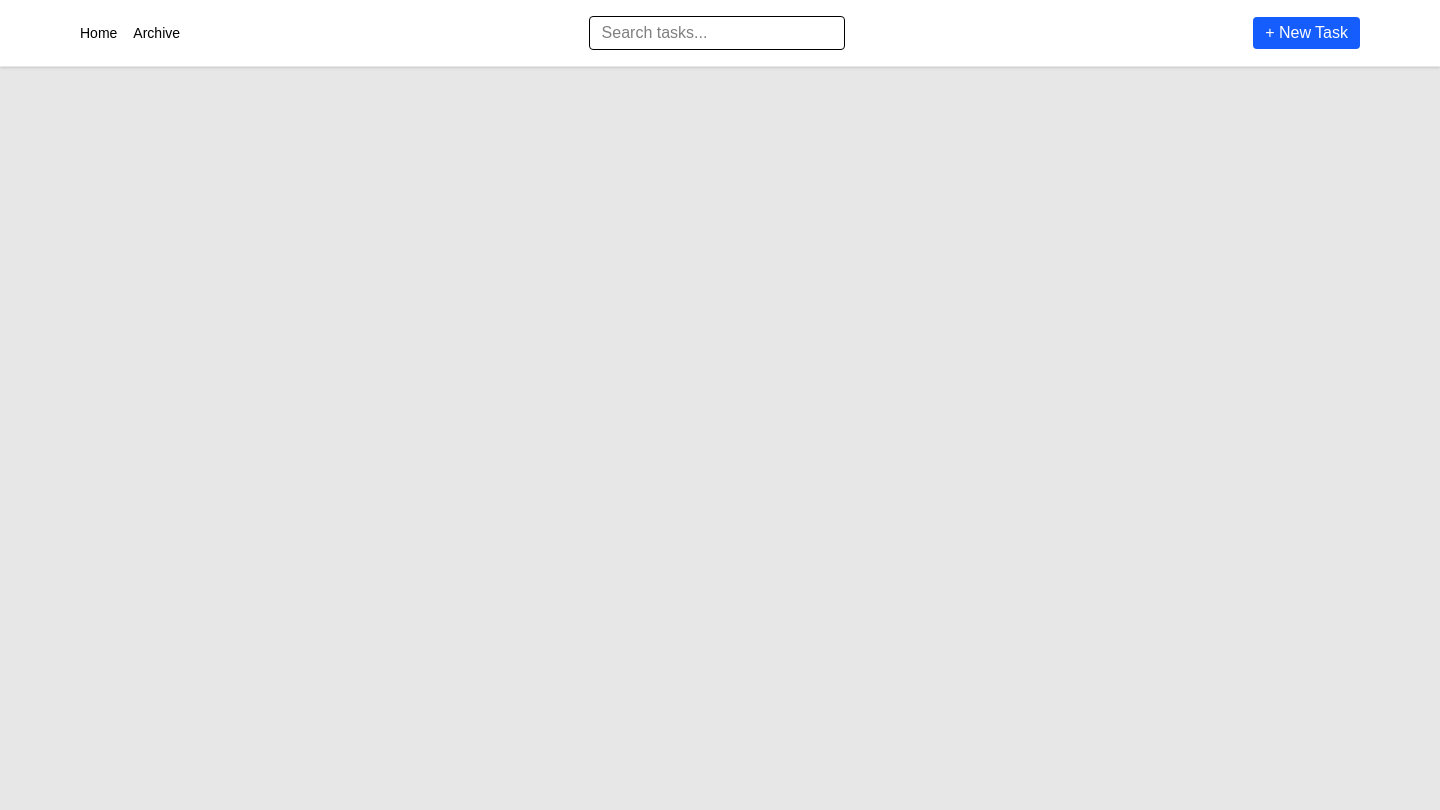
it: NavBar › opens modal when clicking "+ New Task" button
Click the button "+ New Task".
click(1307, 33)  # box [1253, 17, 1360, 49]
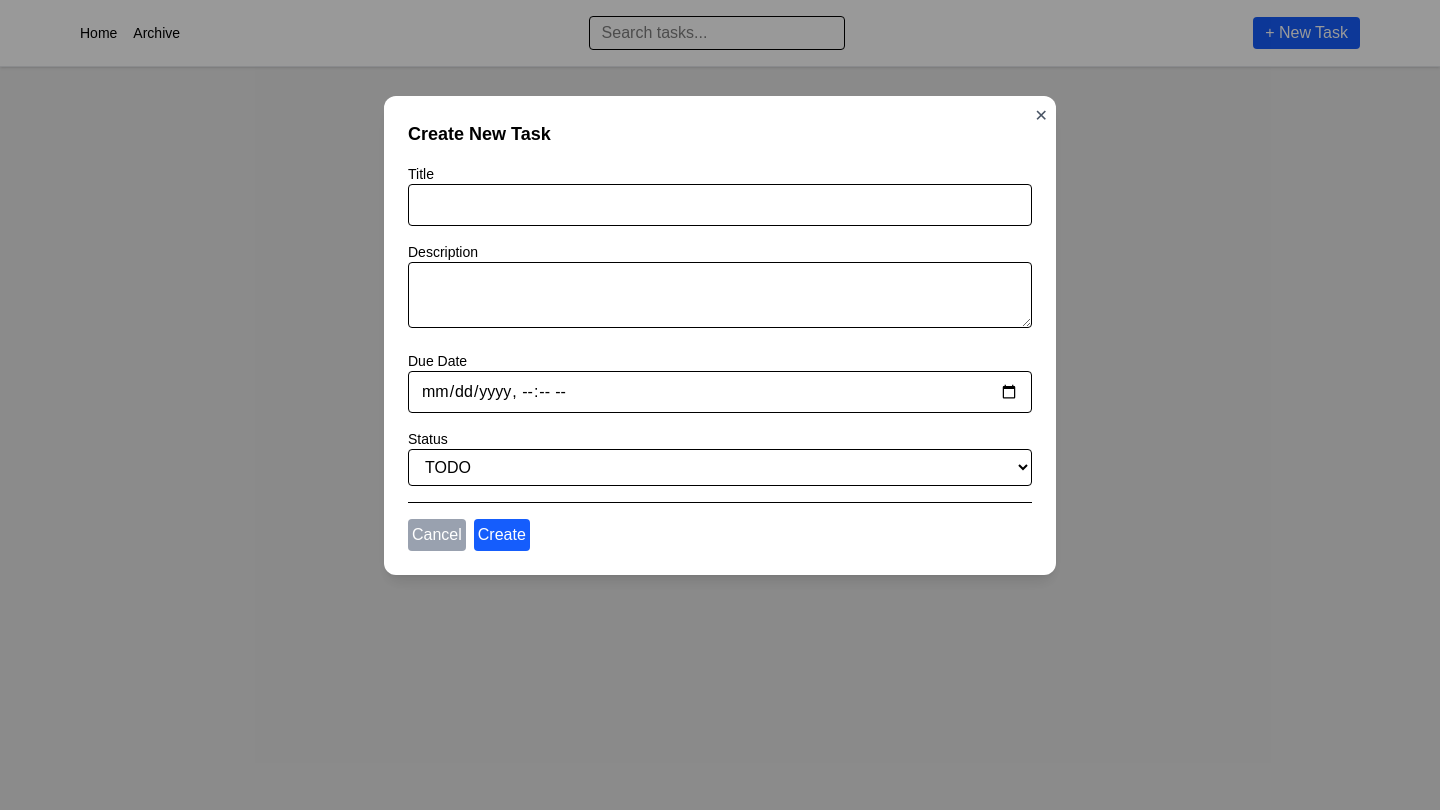
Expected: the heading "Create New Task" is shown, [408, 124, 551, 144]
